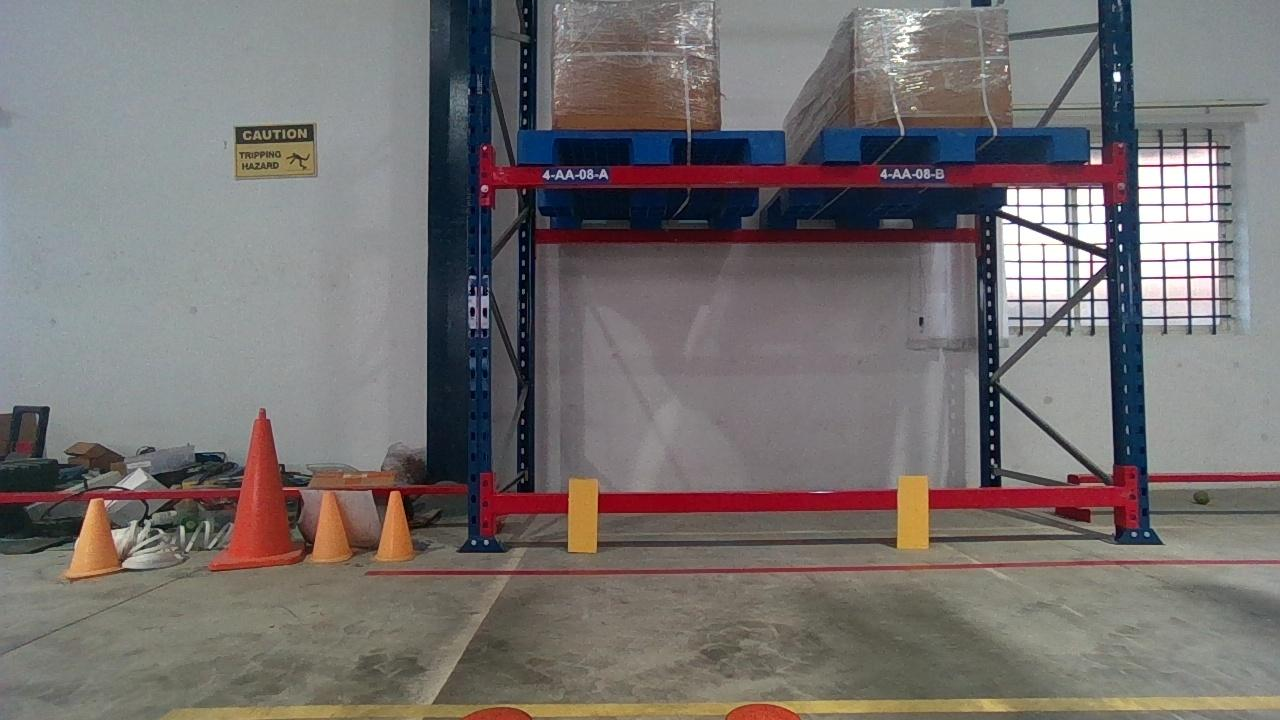h_rack: (489, 488, 1124, 512), (493, 162, 1110, 183)
orange_strip: (896, 475, 928, 547), (567, 478, 598, 552)
red_line: (363, 558, 1274, 575)
small_pallet: (822, 126, 1092, 161), (514, 130, 785, 164)
yellow_line: (158, 690, 1279, 718)
